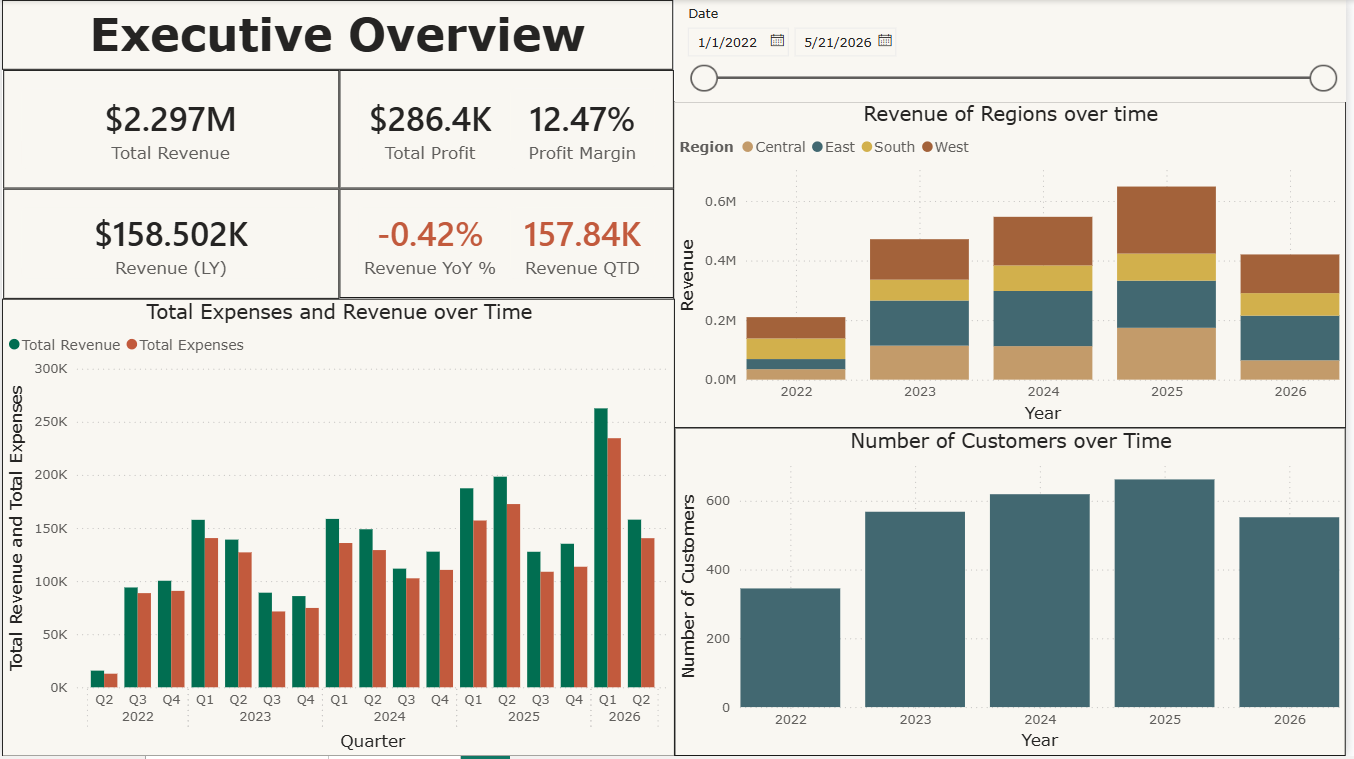

Layout of this report page (visuals, bound fields, positions):
{"tool":"powerbi","page":{"name":"Executive Overview","canvas":[1280,720],"ordinal":0},"visuals":[{"type":"cardVisual","fields":{"Data":["Sum(Sample - Superstore.Sales)"]},"box":[1.4,67.2,319.7,112.5],"z":0},{"type":"textbox","box":[0,0,639.3,66.7],"z":1000},{"type":"cardVisual","fields":{"Data":["Sum(Sample - Superstore.Profit)","Sample - Superstore.Profit Margin"]},"box":[321.1,67.2,318.4,112.5],"z":2000},{"type":"clusteredColumnChart","title":"Number of Customers over Time","fields":{"Y":["Count(Sample - Superstore.Customer ID)"],"Category":["Calendar.Year Hierarchy.Year","Calendar.Year Hierarchy.Quarter","Calendar.Year Hierarchy.Month","Calendar.Year Hierarchy.Date"]},"box":[640.8,407.5,639.5,312.9],"z":3000},{"type":"columnChart","title":"Revenue of Regions over time","fields":{"Y":["Sum(Sample - Superstore.Sales)"],"Series":["Sample - Superstore.Region"],"Category":["Calendar.Year Hierarchy.Year","Calendar.Year Hierarchy.Quarter","Calendar.Year Hierarchy.Month","Calendar.Year Hierarchy.Date"]},"box":[639.5,96.1,640.8,311.5],"z":4000},{"type":"clusteredColumnChart","title":"Total Expenses and Revenue over Time","fields":{"Y":["Sum(Sample - Superstore.Sales)","Sum(Sample - Superstore.Pure Costs)"],"Category":["Calendar.Year Hierarchy.Year","Calendar.Year Hierarchy.Quarter","Calendar.Year Hierarchy.Month","Calendar.Year Hierarchy.Date"]},"box":[0,284,640.8,436.4],"z":5000},{"type":"cardVisual","fields":{"Data":["Sample - Superstore.Revenue YoY %","Superstore.Revenue QTD"]},"box":[321.1,179.8,318.4,104.3],"z":6000},{"type":"cardVisual","fields":{"Data":["Sample - Superstore.Revenue LY"]},"box":[1.2,179.8,320.2,104.8],"z":7000},{"type":"slicer","fields":{"Values":["Calendar.Date"]},"box":[640.5,0,639.3,96.4],"z":8000}]}

Visuals, with their boxes in screenshot pixels (x1, y1, x2, y2), scaled from the page's 1280x720 canvas onto the 1354x759 screenshot:
cardVisual - Sum(Sample - Superstore.Sales): select_region(1, 71, 340, 189)
textbox: select_region(0, 0, 676, 70)
cardVisual - Sum(Sample - Superstore.Profit) x Sample - Superstore.Profit Margin: select_region(340, 71, 676, 189)
"Number of Customers over Time" clusteredColumnChart: select_region(678, 430, 1353, 758)
"Revenue of Regions over time" columnChart: select_region(676, 101, 1353, 430)
"Total Expenses and Revenue over Time" clusteredColumnChart: select_region(0, 299, 678, 758)
cardVisual - Sample - Superstore.Revenue YoY % x Superstore.Revenue QTD: select_region(340, 190, 676, 299)
cardVisual - Sample - Superstore.Revenue LY: select_region(1, 190, 340, 300)
slicer - Calendar.Date: select_region(678, 0, 1353, 102)
